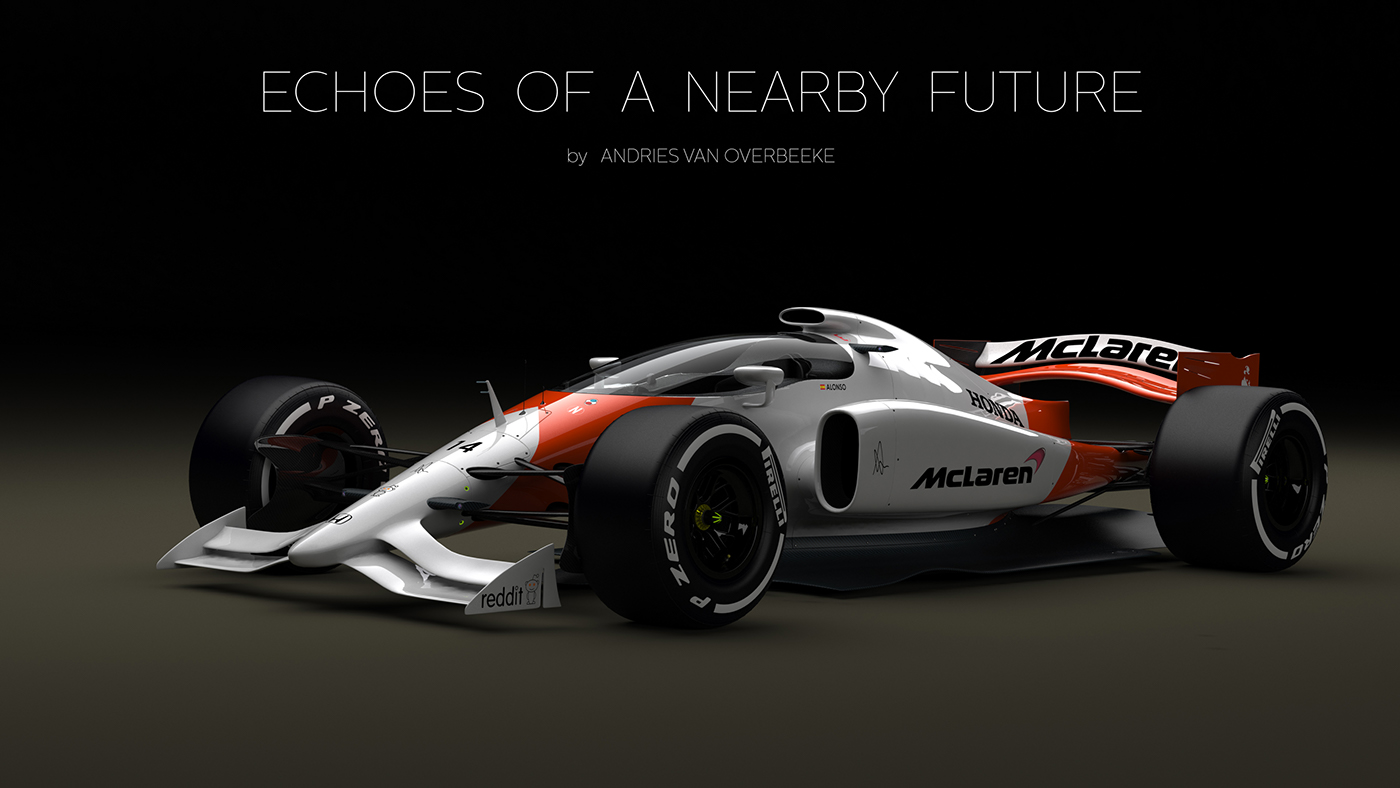f1_car: (135, 261, 1356, 659)
